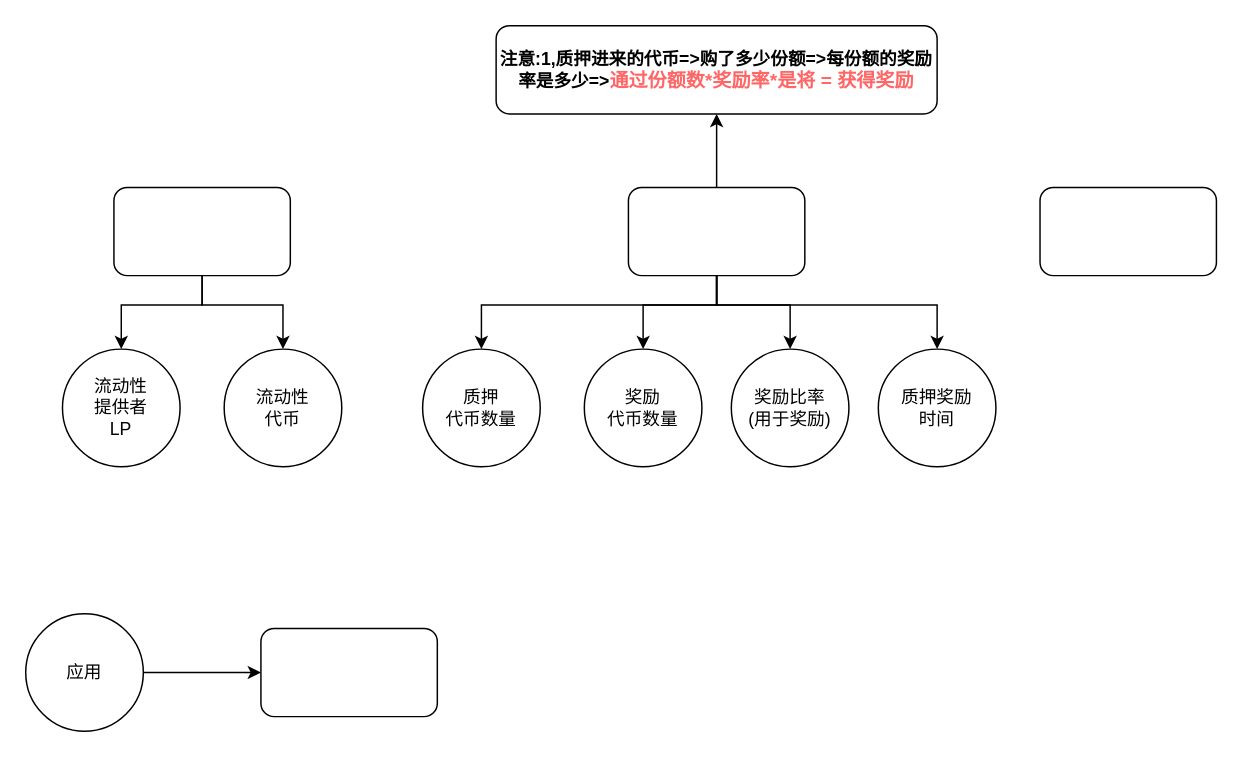
The diagram is 1242 pixels wide and 757 high, and some of its shapes have lost their labels. Here are the shapes that lost their labels. From the top down, the centre of each, then its label:
At pixel 201 231: "流动性 (Liquid)".
At pixel 716 231: "质押 (stake)".
At pixel 1127 231: "奖励 (reward)".
At pixel 348 672: "离散质押奖励".
